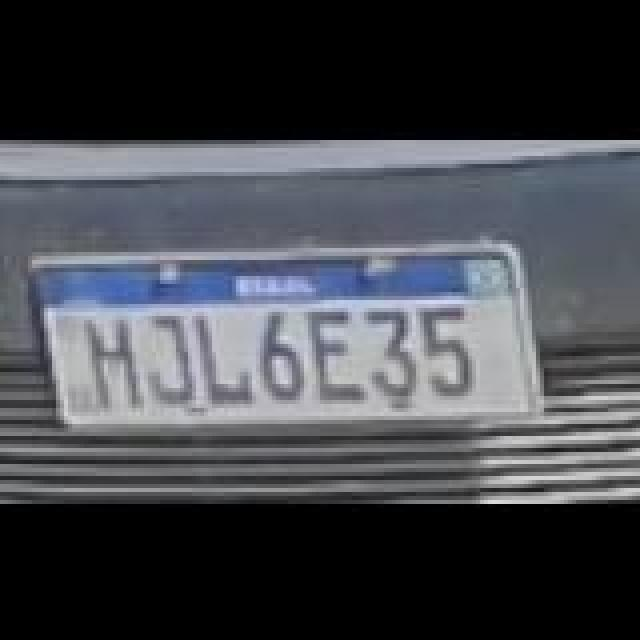3: (360, 304, 424, 400)
5: (416, 300, 480, 396)
6: (252, 304, 308, 400)
E: (308, 302, 372, 402)
J: (142, 312, 202, 408)
L: (194, 310, 254, 402)
M: (80, 312, 144, 408)
